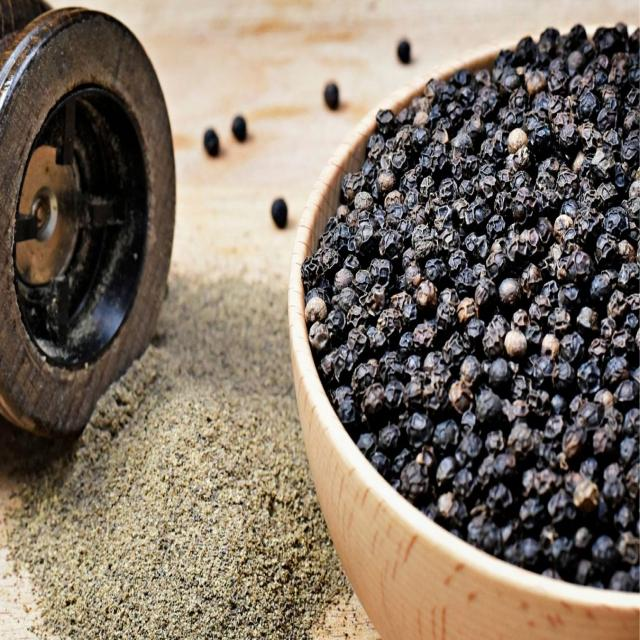Black pepper: (306, 0, 640, 592)
